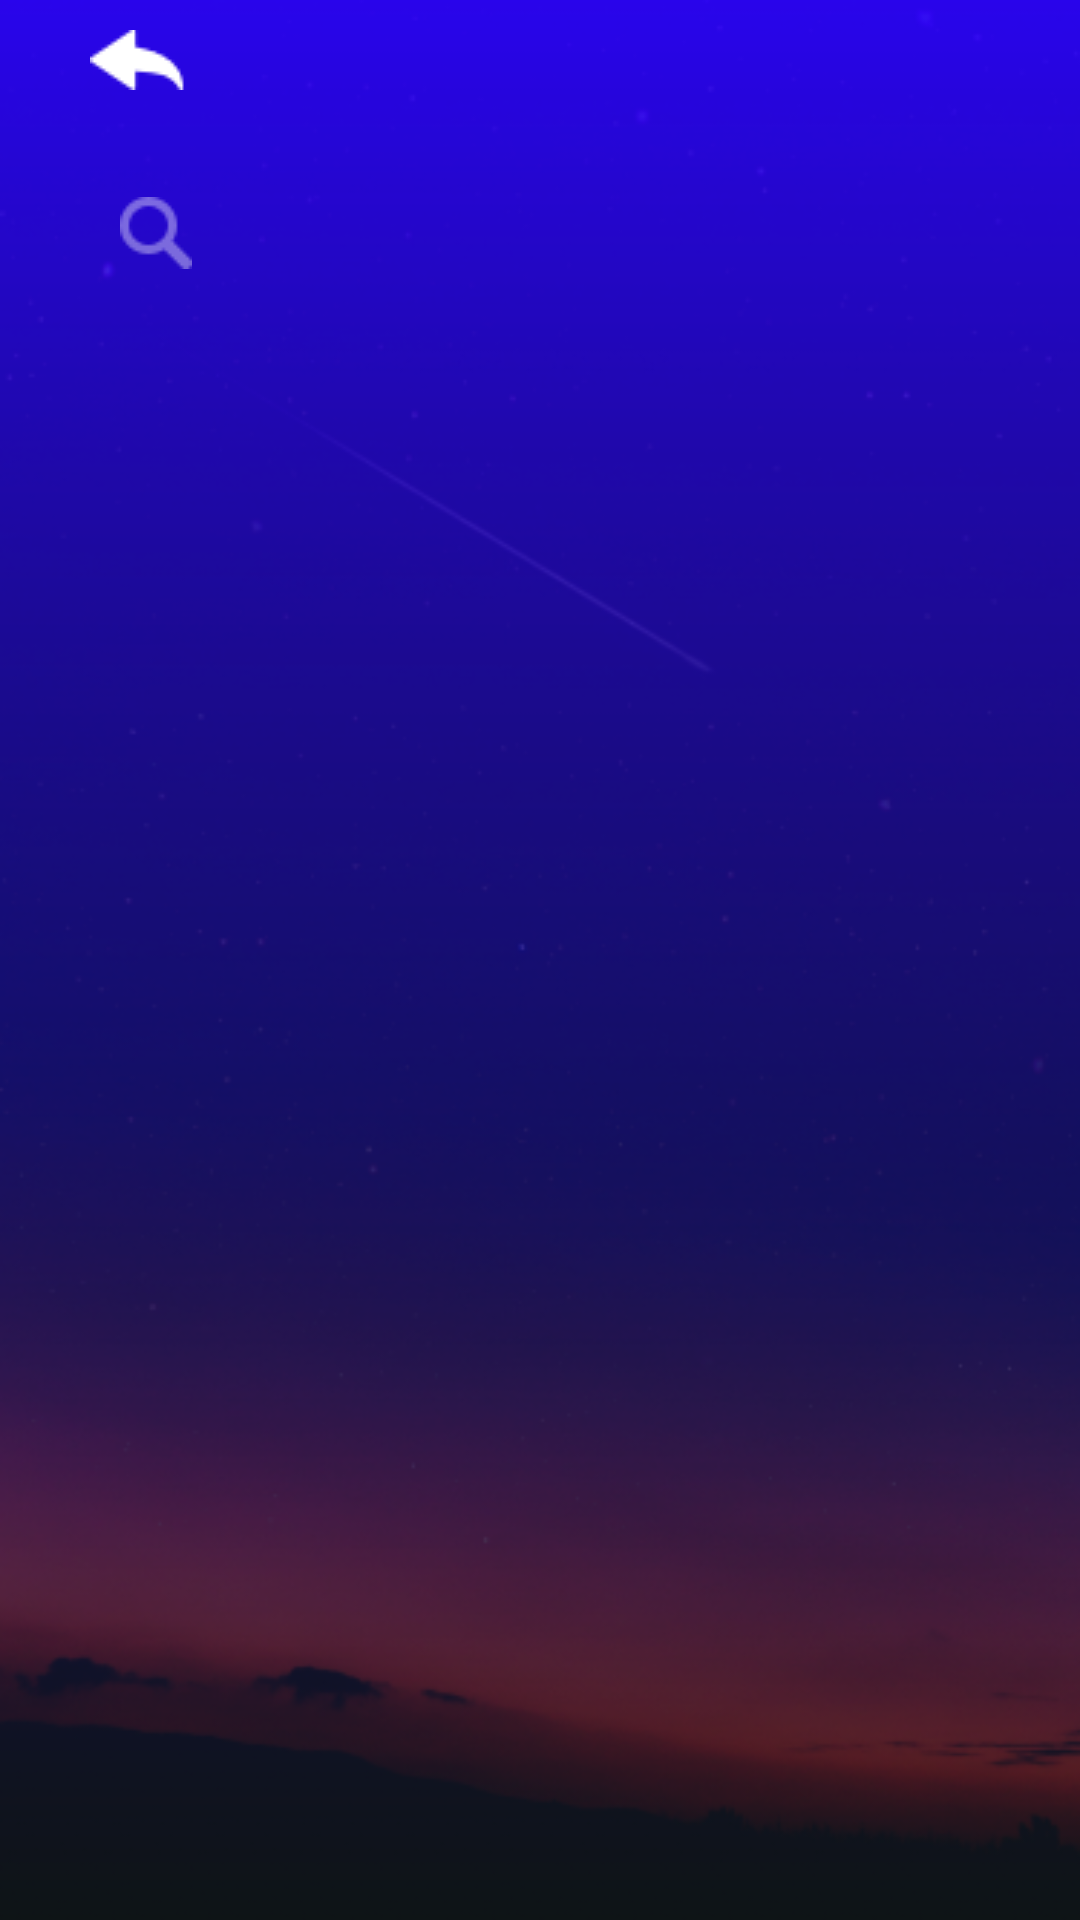

Where icons sit on this 1080×1920 app screen, as (x1, y1, x2, y2):
back: (90, 30, 184, 90)
